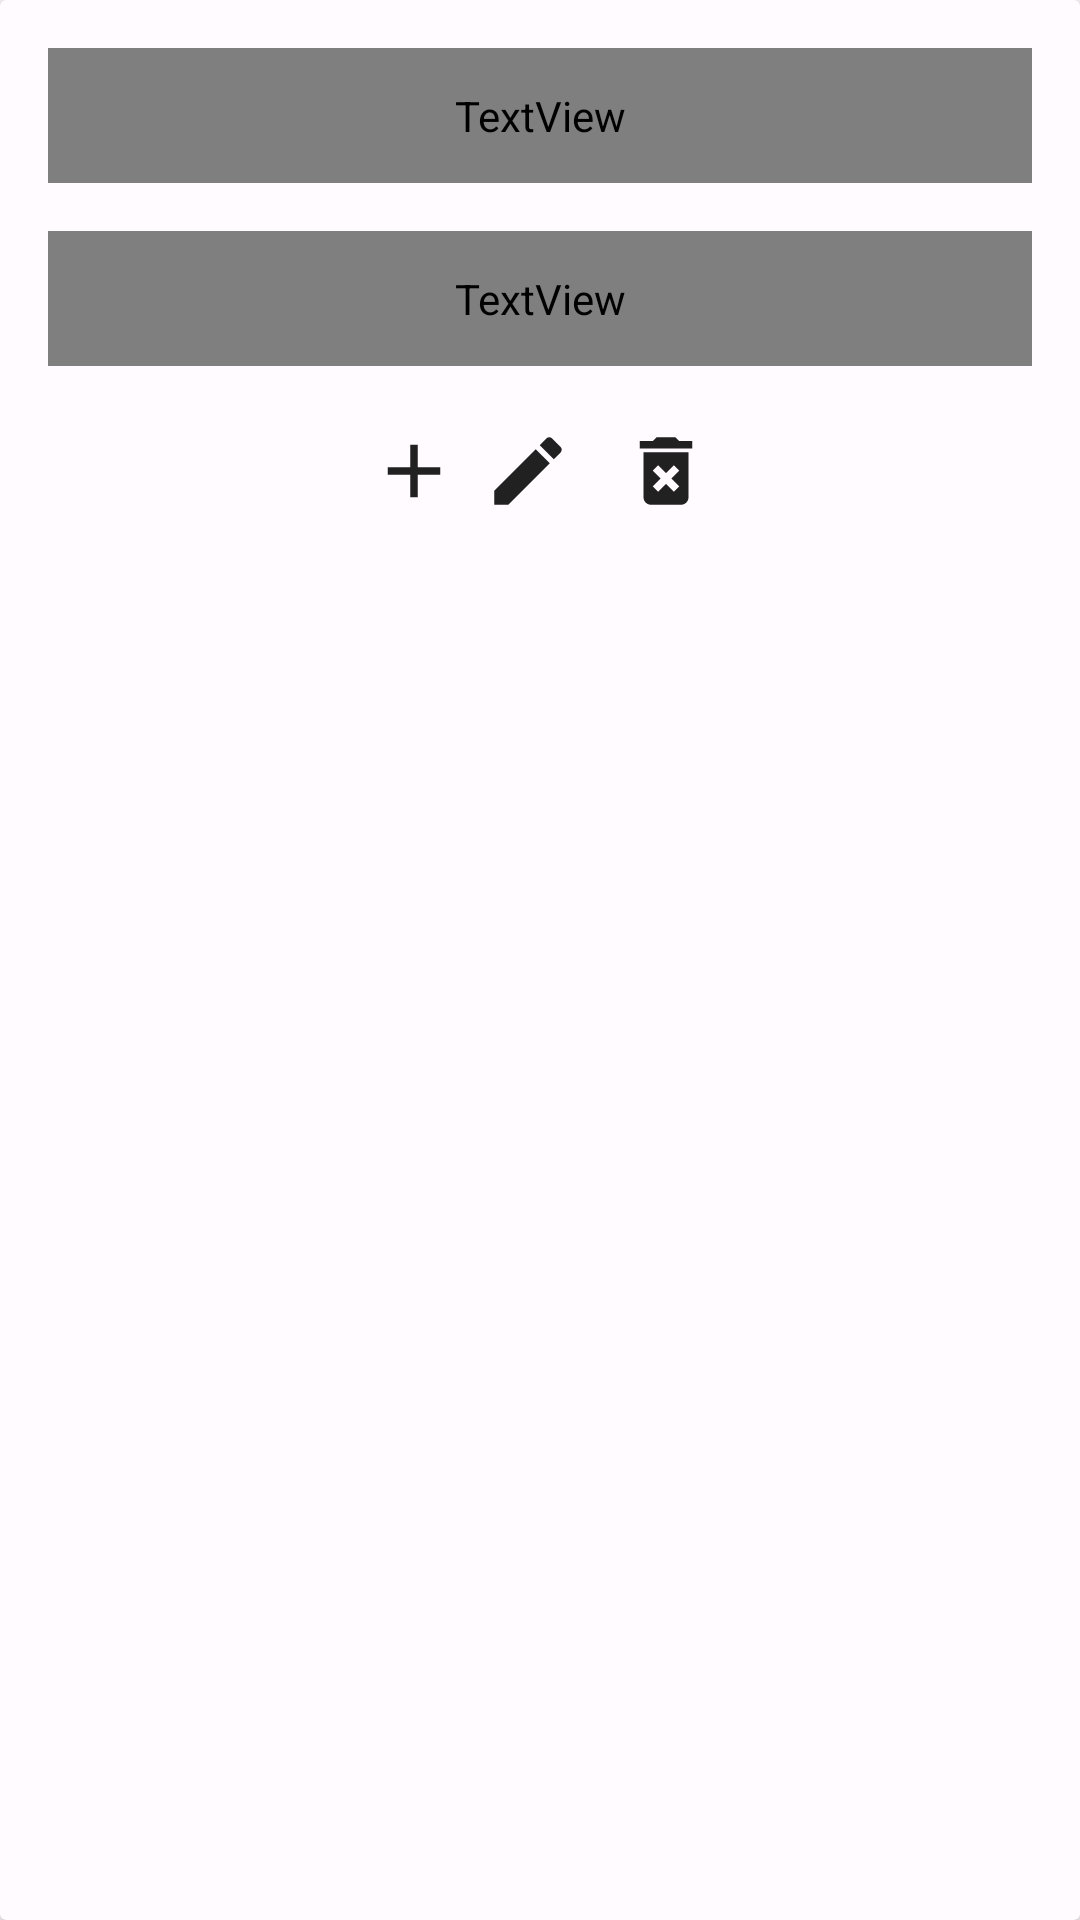

Named icons in this screenshot (1080px×1920px) and their bounding boxes, (x1, y1, x2, y2):
Add new Step: (387, 444, 441, 498)
delete forever: (639, 437, 693, 505)
Image View For Edit Goal: (494, 437, 562, 505)
